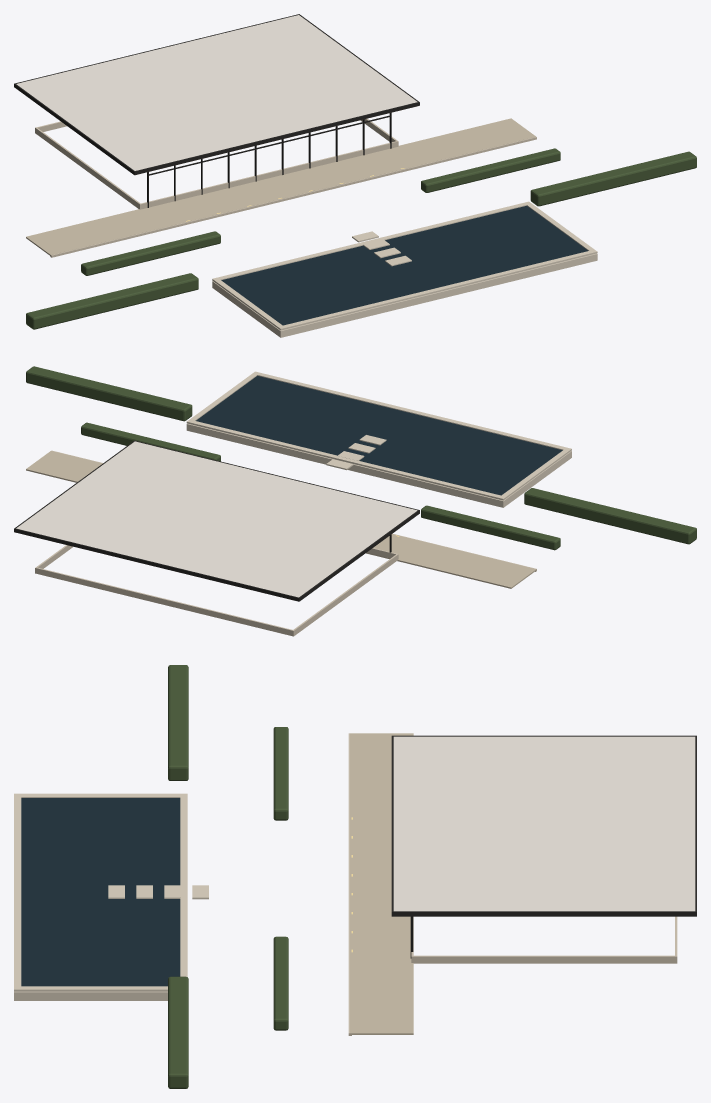
Rendered from exterior.glb.
3 views of the same model, one above another, from view 1: azimuth 30°, elevation 25°; view 2: azimuth 150°, elevation 25°; view 3: azimuth 270°, elevation 25° (orthographic). The views are drawn at different scales.
Parts seen in each view (by area): view 1: roof_slab, pool_water, deck, Ext_Ext_Hedge, Ext_Ext_Coping, Ext_Ext_Travertine, Ext_Ext_Fascia, Ext_Ext_Mullion; view 2: roof_slab, pool_water, Ext_Ext_Hedge, Ext_Ext_Coping, deck, Ext_Ext_Travertine, Ext_Ext_Fascia; view 3: roof_slab, pool_water, deck, Ext_Ext_Hedge, Ext_Ext_Coping, Ext_Ext_Fascia, Ext_Ext_Travertine.
Boxes of the visible parts, x1,y1,x2,y2 form: roof_slab: (16, 15, 417, 170); pool_water: (221, 205, 587, 325); deck: (26, 118, 535, 255); Ext_Ext_Hedge: (26, 148, 696, 329); Ext_Ext_Coping: (212, 201, 597, 337); Ext_Ext_Travertine: (35, 118, 536, 257); Ext_Ext_Fascia: (14, 14, 419, 175); Ext_Ext_Mullion: (147, 112, 391, 207); roof_slab: (16, 441, 417, 597); pool_water: (196, 375, 562, 495); Ext_Ext_Hedge: (26, 366, 696, 550); Ext_Ext_Coping: (186, 371, 571, 507); deck: (26, 451, 536, 588); Ext_Ext_Travertine: (35, 450, 536, 636); Ext_Ext_Fascia: (14, 440, 419, 601); roof_slab: (393, 736, 695, 911); pool_water: (21, 798, 180, 986); deck: (350, 733, 413, 1034); Ext_Ext_Hedge: (168, 665, 288, 1088); Ext_Ext_Coping: (14, 793, 208, 1000); Ext_Ext_Fascia: (391, 735, 696, 916); Ext_Ext_Travertine: (348, 733, 677, 1035).
Size of what is drawn, in the model's own units: 52 by 4.2 by 36.57.
